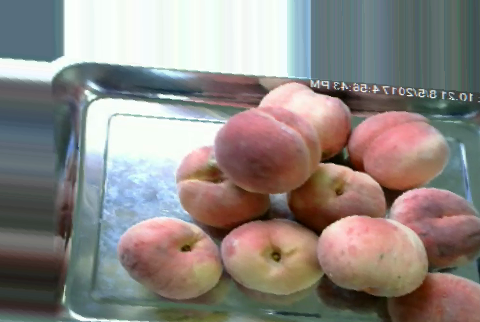Peach: (215, 103, 322, 190), (116, 217, 223, 300), (316, 216, 421, 297), (176, 142, 272, 229), (221, 217, 325, 296), (349, 108, 448, 190), (387, 187, 478, 268), (284, 161, 389, 230), (391, 269, 480, 322)
